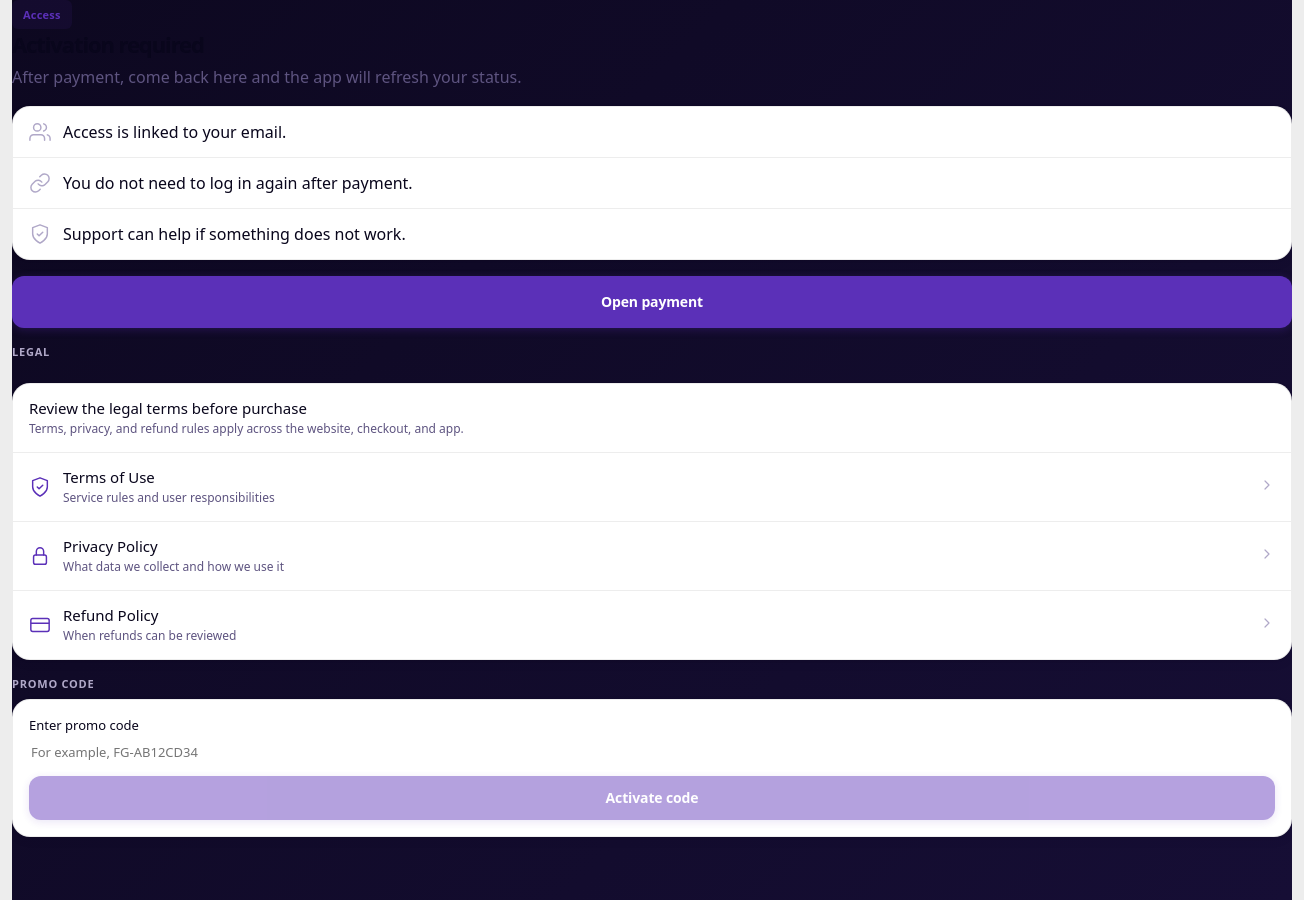
PaywallPage › inactive access redeems promo code from access tab
This screenshot has width=1304, height=900.
Type "fg-test" into the field with placeholder "For example, FG-AB12CD34" at (652, 752), box [29,742,1275,762]
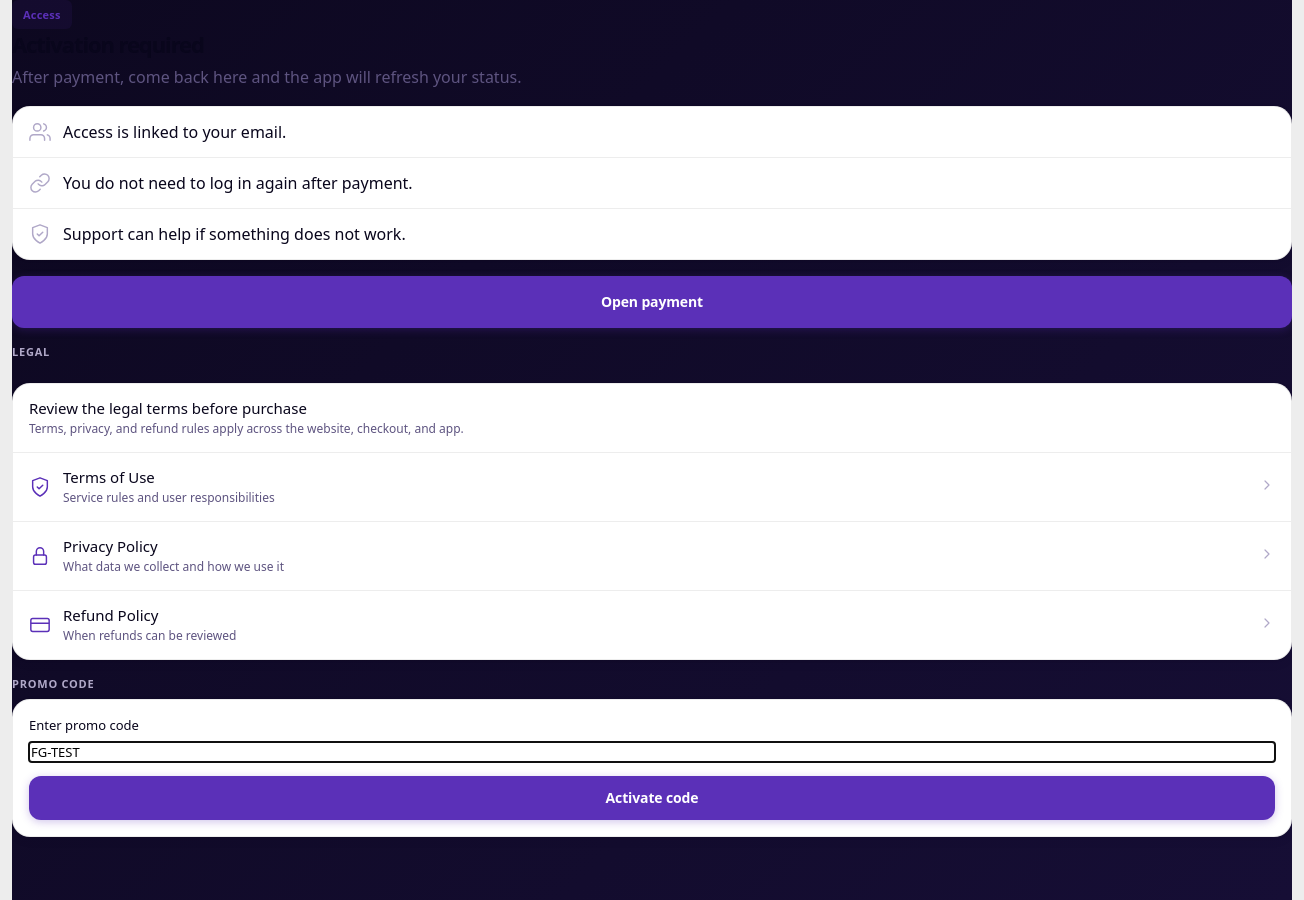
Click the button "Activate code" at (652, 798), box [29,776,1275,820]
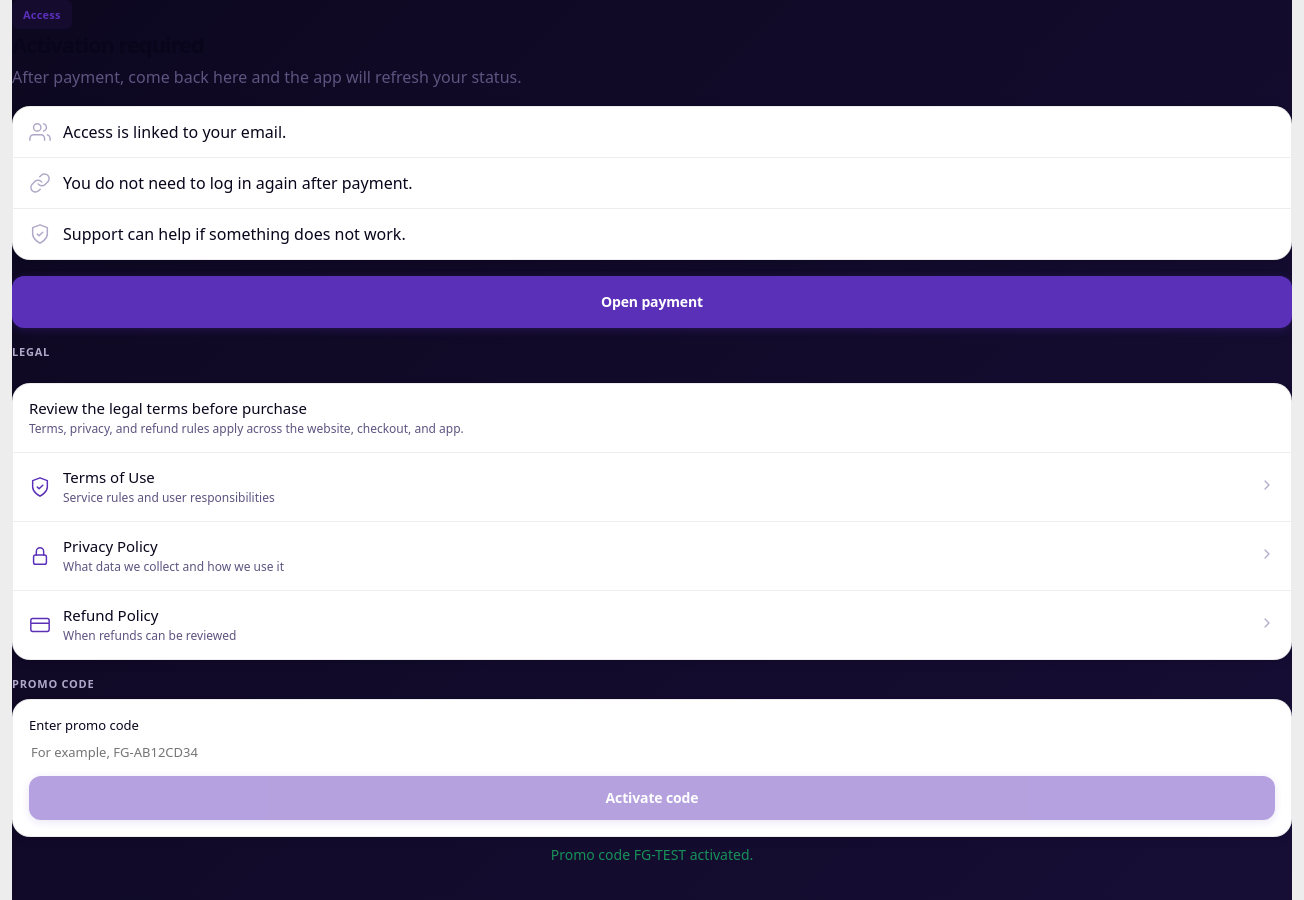
Check: the text "Promo code FG-TEST activated." is shown, box [551,845,753,864]
